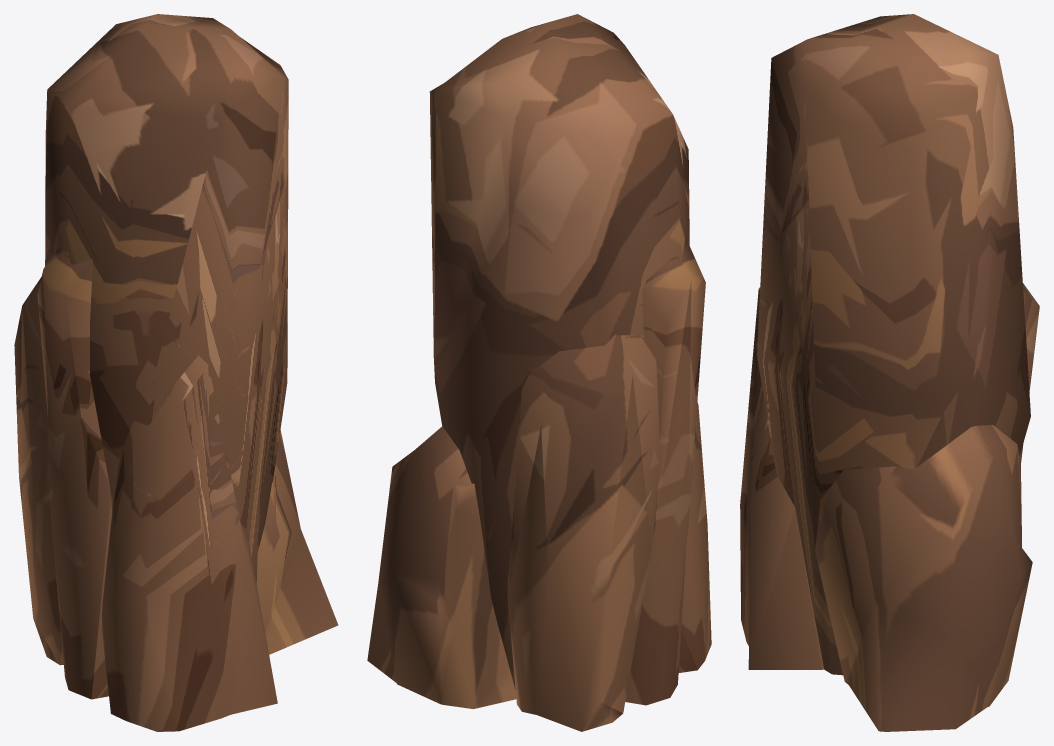
File: rock_3.FBX
The picture shows the model from 3 angles, left to right: view 1: azimuth 30°, elevation 25°; view 2: azimuth 150°, elevation 25°; view 3: azimuth 270°, elevation 25°; orthographic projection.
Parts seen in each view (by area): view 1: rock_3; view 2: rock_3; view 3: rock_3.
Boxes of the visible parts, x1,y1,x2,y2 form: rock_3: (14,14,338,731); rock_3: (367,14,711,731); rock_3: (740,14,1039,731).
Size of the model in its own units: 19.81 by 17.52 by 40.78.
1 material, 1 textured.
